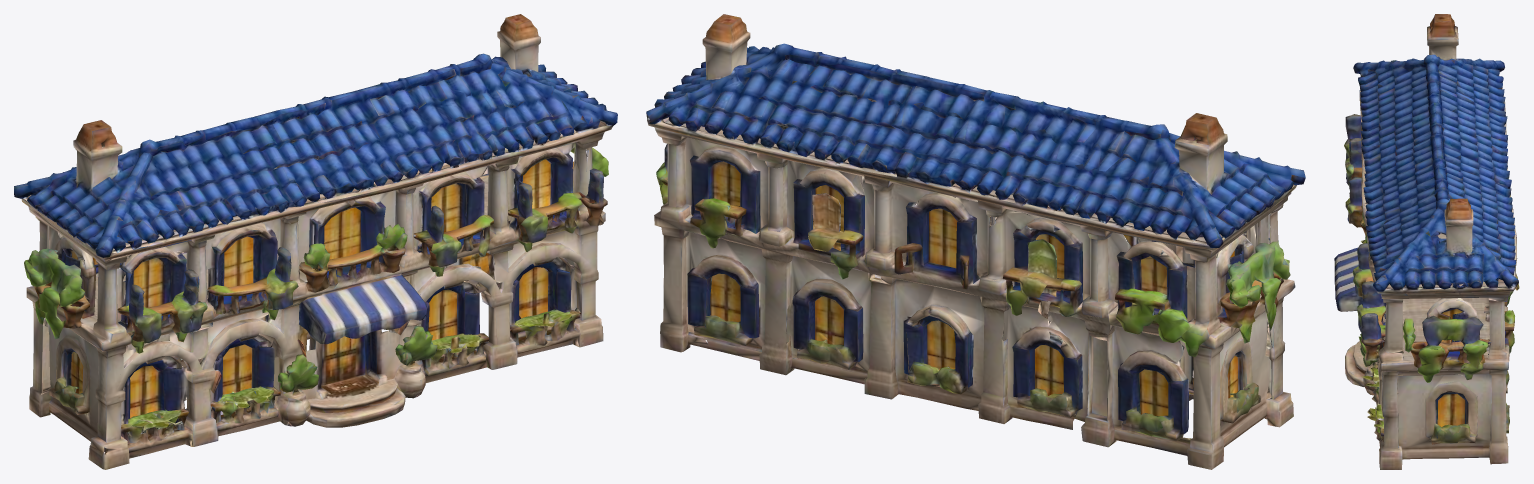
The model's file is candidate.glb.
3 renders of one model, left to right at view 1: azimuth 30°, elevation 25°; view 2: azimuth 150°, elevation 25°; view 3: azimuth 270°, elevation 25°, orthographic. The views are drawn at different scales.
Parts seen in each view (by area): view 1: harbor__skyscraper_1__native_mobile; view 2: harbor__skyscraper_1__native_mobile; view 3: harbor__skyscraper_1__native_mobile.
Part boxes in pixels (x1,y1,x2,y2): harbor__skyscraper_1__native_mobile: (14,14,617,469); harbor__skyscraper_1__native_mobile: (646,14,1305,469); harbor__skyscraper_1__native_mobile: (1334,14,1519,469).
Size of the model in its own units: 1 by 0.5327 by 0.3418.
Materials: 1 (1 with a texture image).
